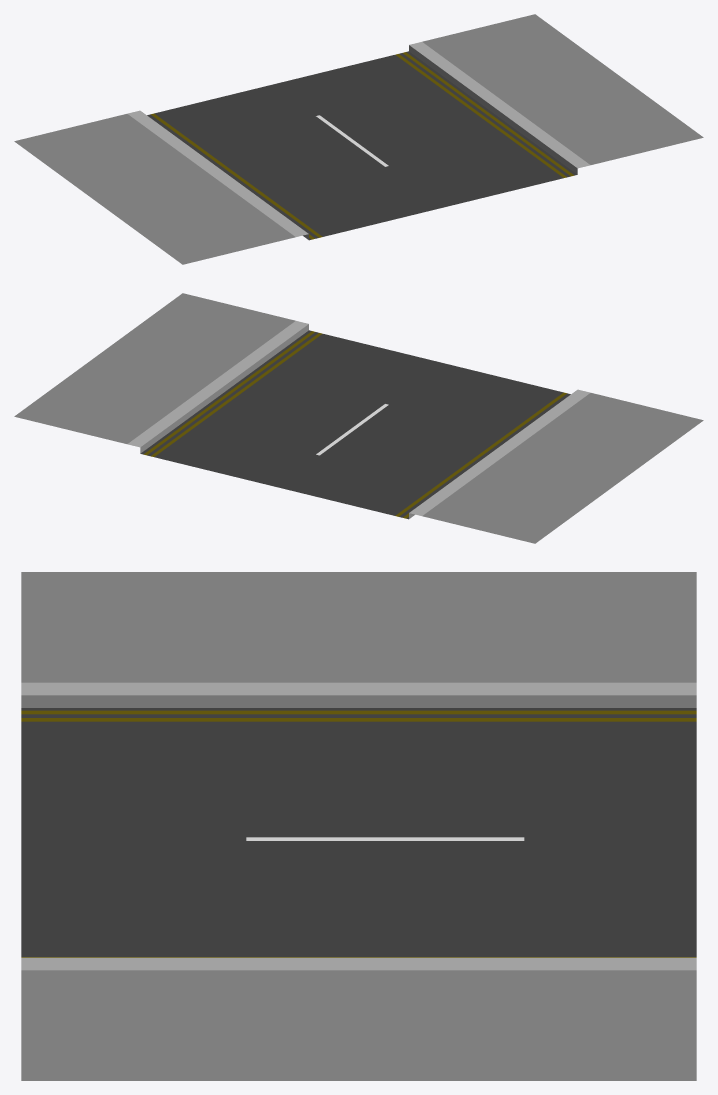
File: street_straight_Dean.fbx
The picture shows the model from 3 angles, top to bottom: view 1: azimuth 30°, elevation 25°; view 2: azimuth 150°, elevation 25°; view 3: azimuth 270°, elevation 25°; orthographic projection. The views are drawn at different scales.
Parts seen in each view (by area): view 1: polySurface1; view 2: polySurface1; view 3: polySurface1.
Part boxes in pixels (box(x1,y1,x2,y2)): polySurface1: box(14, 14, 703, 264); polySurface1: box(14, 293, 703, 543); polySurface1: box(21, 572, 696, 1080).
Bounding box in the file's own units: 1381 × 16.09 × 774.
